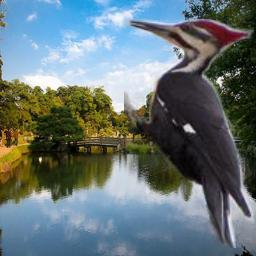Woodpecker: (124, 19, 254, 248)
